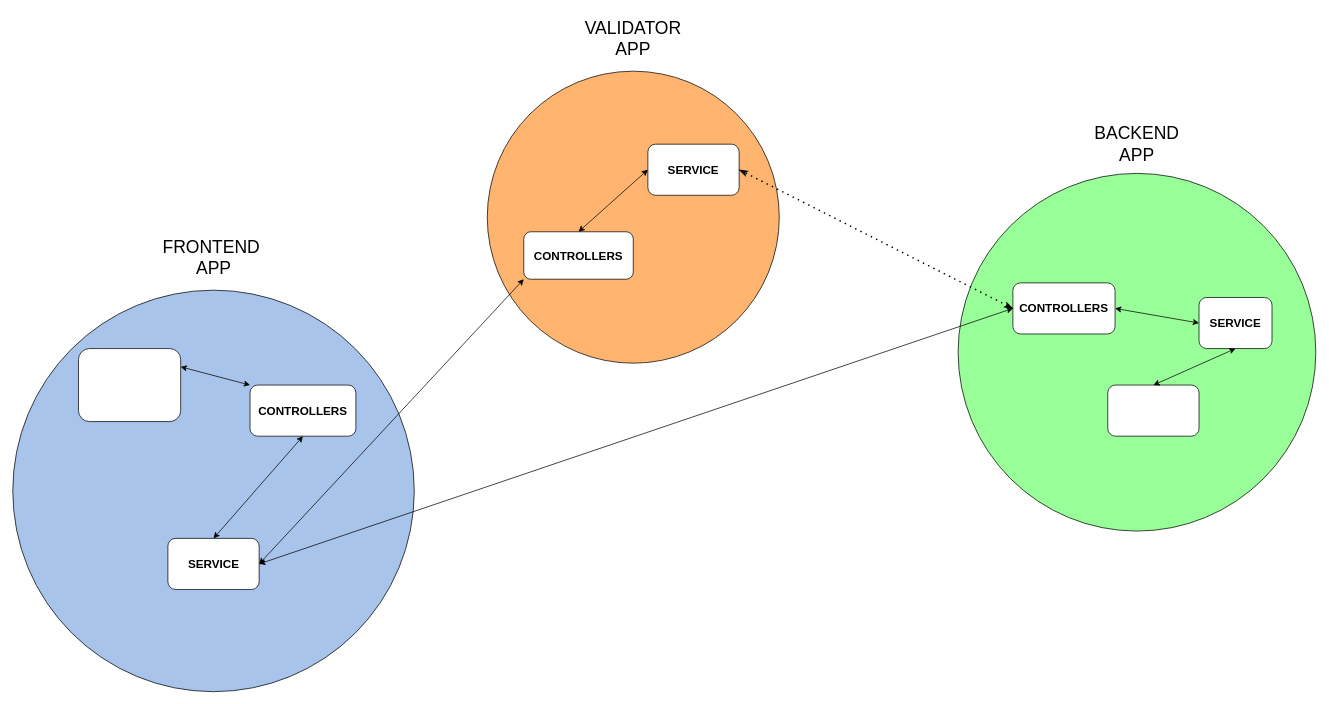
The diagram is 1329 pixels wide and 704 high, and some of its shapes have lost their labels. The shapes that lost their labels are listed below. From the top down, each one's box as (x1, y1, x2, y2) in pixels, then its label:
(78, 348, 181, 422): VIEWS
(1107, 384, 1199, 436): DAO
